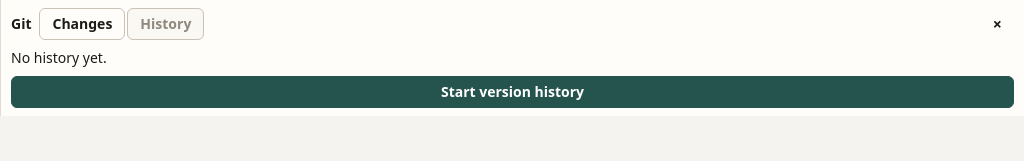
Test: GitPanel › starts version history after saving
The image size is (1024, 161).
Click the button "Start version history": (512, 92) [11, 76, 1014, 108]
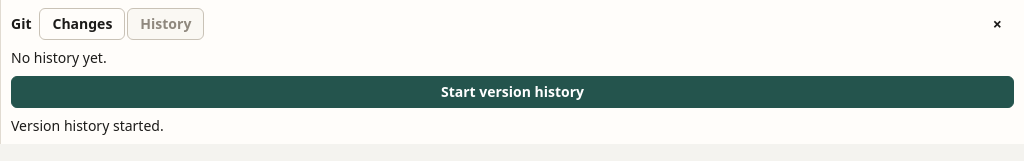
Result: the text "Version history started." is shown at [11, 116, 164, 135]
